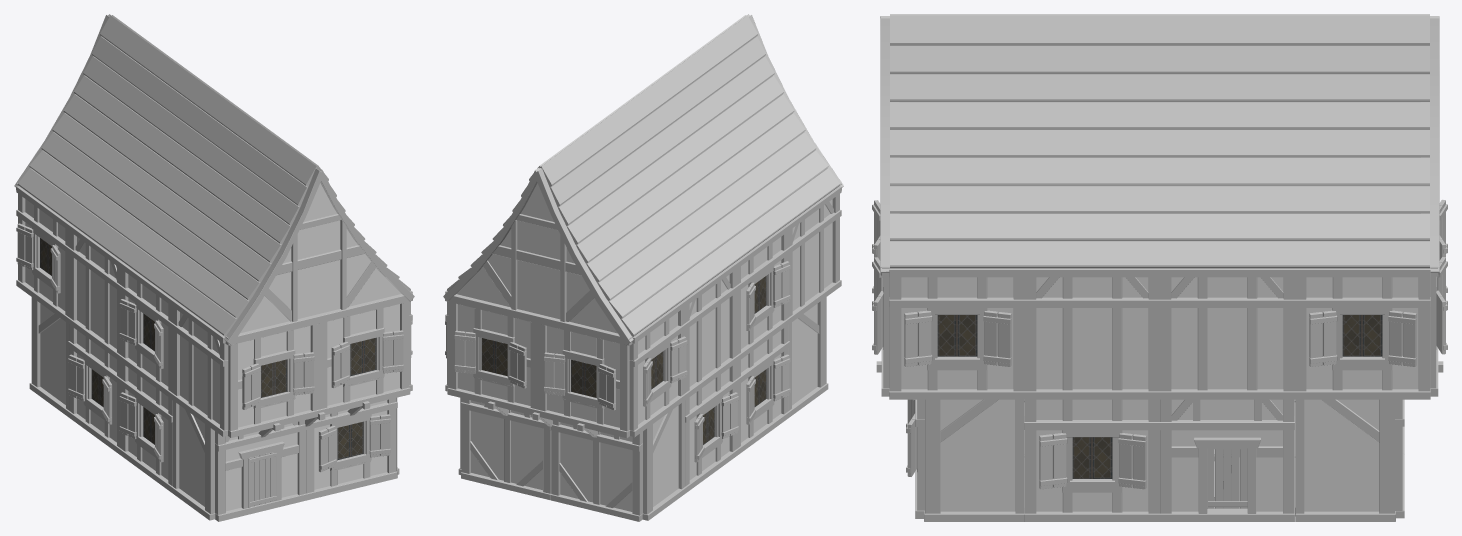
Rendered from House_1A10.fbx.
3 renders of one model, left to right at view 1: azimuth 30°, elevation 25°; view 2: azimuth 150°, elevation 25°; view 3: azimuth 270°, elevation 25°, orthographic. The views are drawn at different scales.
Visible parts, largest first — view 1: House_1A10, Cube.2363, Plane.409, Plane.411, Plane.408; view 2: House_1A10, Plane.317, Plane.316; view 3: House_1A10, Cube.2378, Plane.414, Plane.415, Plane.416.
Part boxes in pixels (bbox=[...]): House_1A10: bbox=[14, 14, 414, 521]; Cube.2363: bbox=[248, 451, 276, 507]; Plane.409: bbox=[350, 338, 376, 376]; Plane.411: bbox=[337, 422, 363, 459]; Plane.408: bbox=[261, 359, 286, 397]; House_1A10: bbox=[443, 14, 843, 521]; Plane.317: bbox=[481, 338, 507, 376]; Plane.316: bbox=[571, 359, 596, 397]; House_1A10: bbox=[872, 14, 1447, 521]; Cube.2378: bbox=[1207, 448, 1247, 508]; Plane.414: bbox=[1342, 315, 1382, 356]; Plane.415: bbox=[937, 315, 977, 356]; Plane.416: bbox=[1072, 437, 1112, 478].
Size of the model in its own units: 906 by 1463 by 1706.
